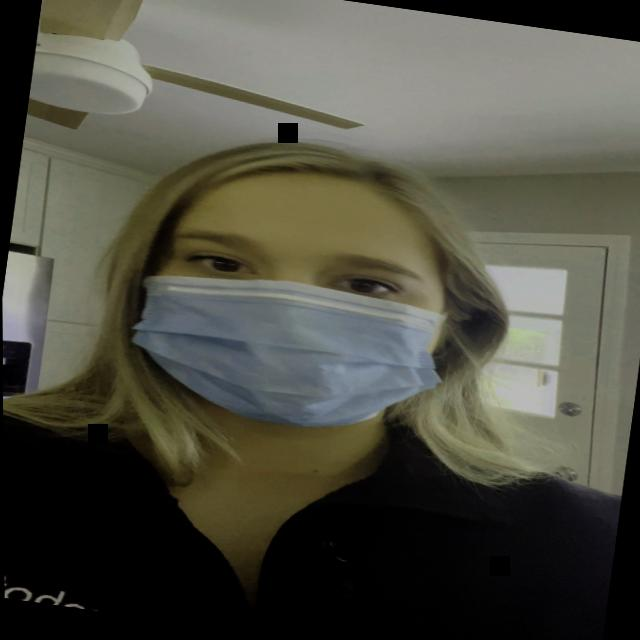Mask: (92, 140, 508, 470)
